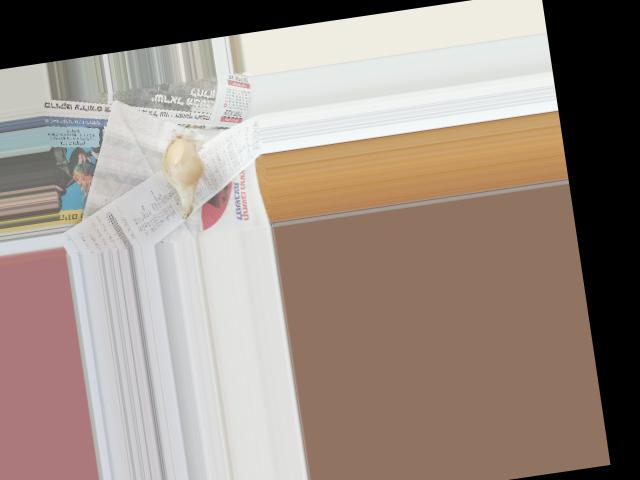onion: (153, 128, 206, 199)
